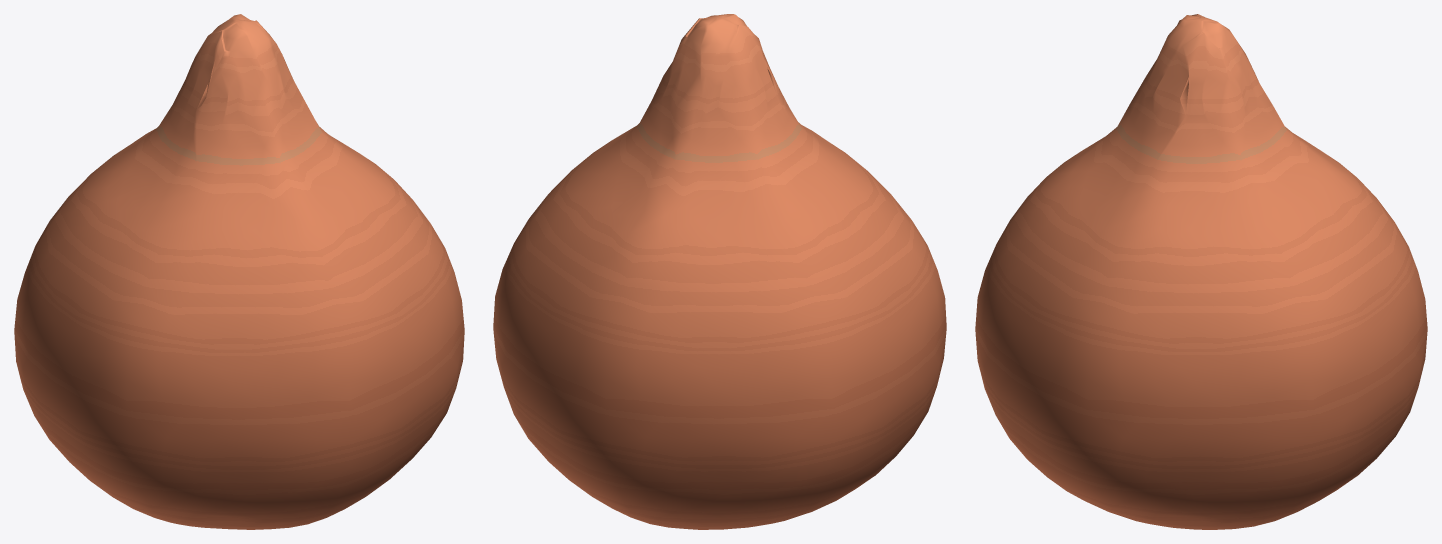
3 views of the same model, side by side, from view 1: azimuth 30°, elevation 25°; view 2: azimuth 150°, elevation 25°; view 3: azimuth 270°, elevation 25° (orthographic).
Size of the model in its own units: 0.8159 by 1 by 0.8475.
Materials: 1 (1 with a texture image).
